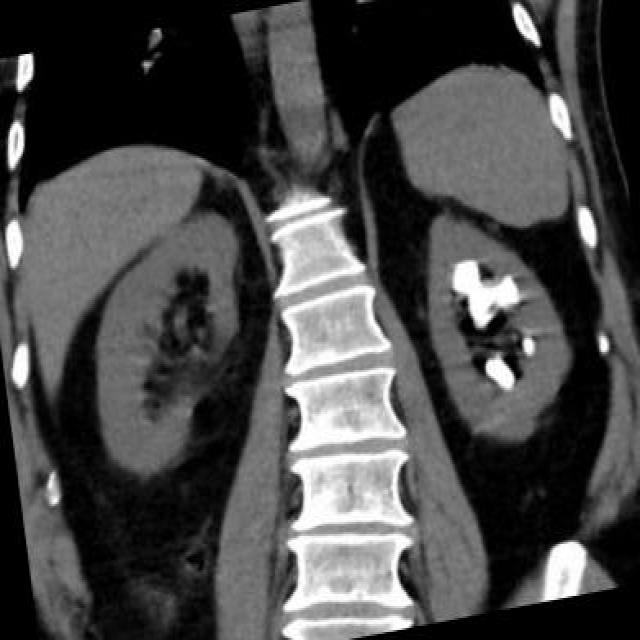Tas_Var: (446, 243, 525, 319), (479, 347, 519, 399), (517, 334, 537, 362), (494, 294, 520, 308), (478, 311, 493, 325)
